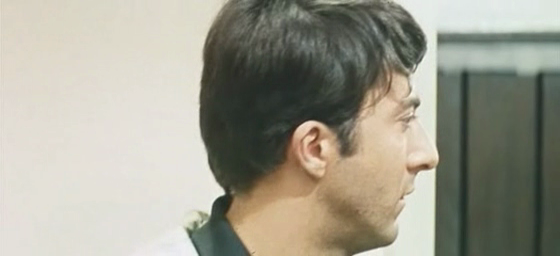cu: (1, 1, 560, 256)
face: (370, 74, 440, 241)
person: (145, 1, 439, 256)
